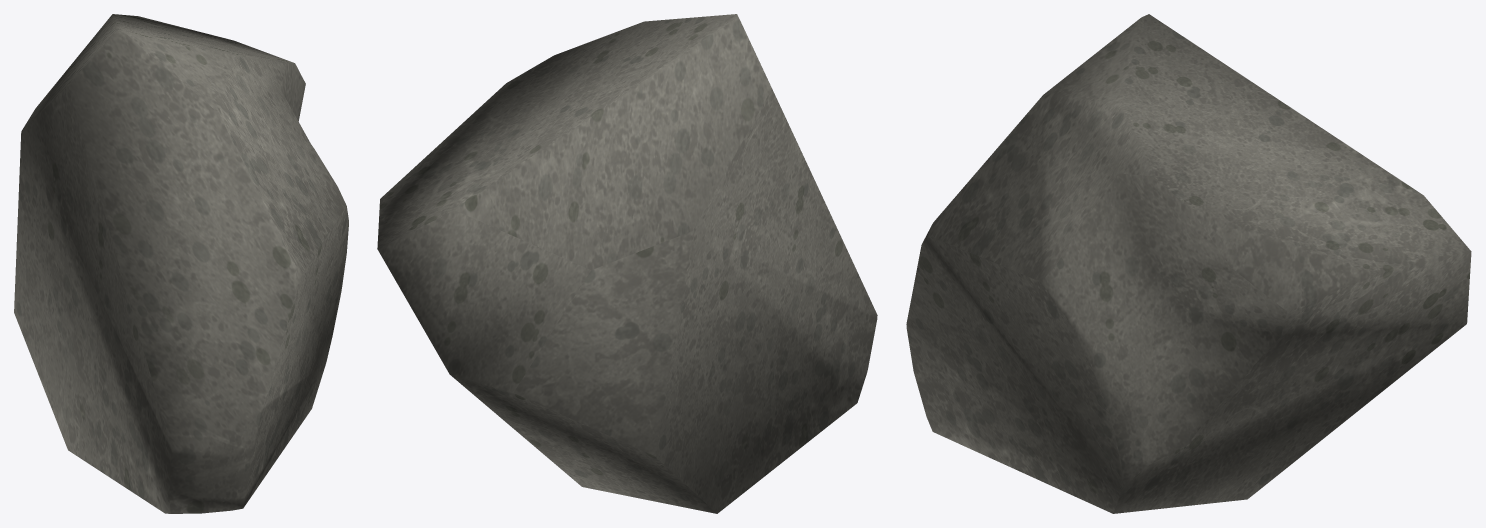
File: rock3.fbx
3 views of the same model, side by side, from view 1: azimuth 30°, elevation 25°; view 2: azimuth 150°, elevation 25°; view 3: azimuth 270°, elevation 25° (orthographic). The views are drawn at different scales.
Parts seen in each view (by area): view 1: rock.002; view 2: rock.002; view 3: rock.002.
Boxes of the visible parts, x1,y1,x2,y2 form: rock.002: (14, 14, 348, 513); rock.002: (377, 14, 877, 513); rock.002: (906, 14, 1471, 513).
Bounding box in the file's own units: 200 × 289 × 333.
